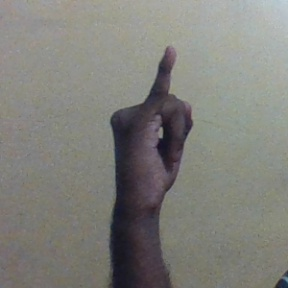I: (106, 44, 196, 200)
